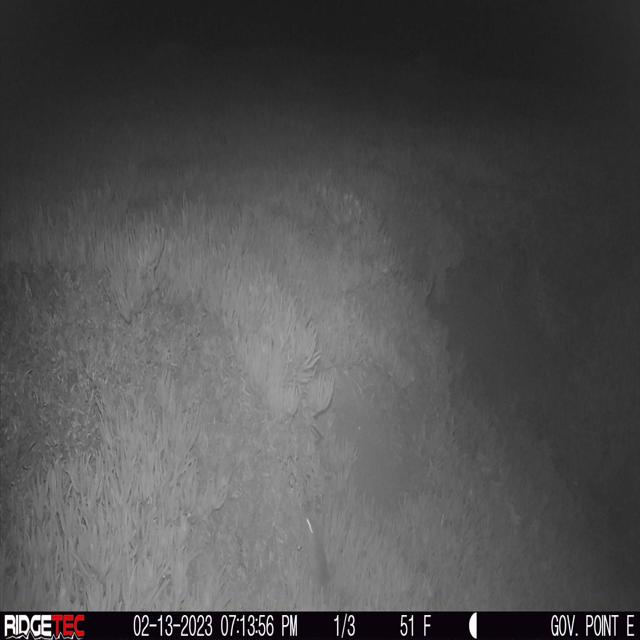rodent: (292, 503, 334, 587)
